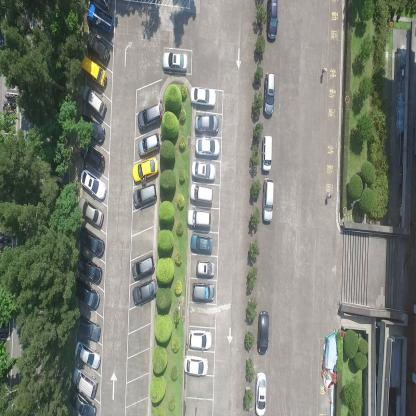car: (78, 169, 107, 202), (86, 0, 112, 36), (76, 196, 104, 229), (73, 278, 100, 312), (72, 366, 98, 400), (81, 54, 106, 89), (74, 340, 102, 371), (77, 226, 105, 256), (86, 30, 110, 64), (132, 155, 159, 184), (137, 101, 163, 131), (82, 85, 106, 117), (77, 254, 102, 284), (75, 315, 101, 343), (81, 115, 106, 144), (81, 140, 105, 170), (132, 182, 157, 210), (131, 253, 156, 281), (132, 278, 157, 306), (262, 69, 276, 118), (70, 390, 96, 415), (256, 310, 270, 356), (254, 372, 268, 415), (183, 353, 208, 377), (138, 131, 160, 158), (262, 177, 274, 225), (190, 85, 216, 107), (191, 160, 217, 182), (162, 50, 188, 72), (190, 182, 213, 206), (188, 207, 212, 230), (189, 327, 212, 351), (265, 0, 278, 42), (190, 233, 212, 256), (191, 280, 215, 301), (194, 113, 219, 133), (195, 138, 221, 157), (262, 133, 273, 173), (196, 258, 215, 278)
